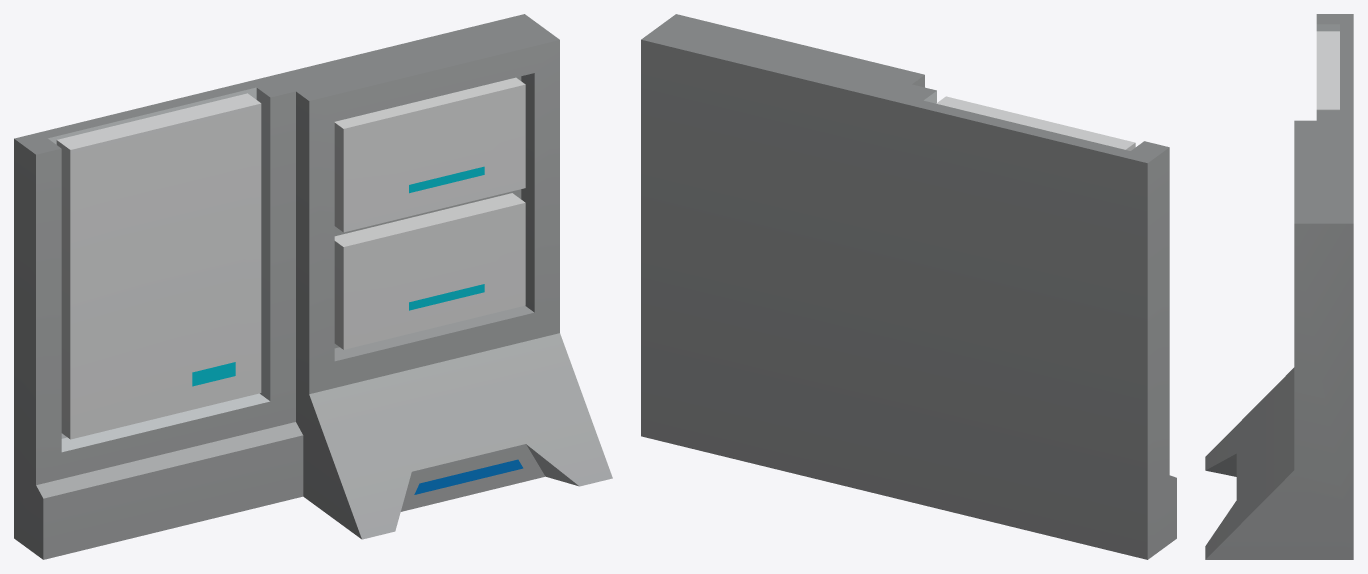
File: Wall_type_A_039.fbx
3 renders of one model, left to right at view 1: azimuth 30°, elevation 25°; view 2: azimuth 150°, elevation 25°; view 3: azimuth 270°, elevation 25°, orthographic. The views are drawn at different scales.
Parts seen in each view (by area): view 1: Wall_type_A_039; view 2: Wall_type_A_039; view 3: Wall_type_A_039.
Part boxes in pixels (x1=…): Wall_type_A_039: x1=14, y1=14, x2=612, y2=559; Wall_type_A_039: x1=641, y1=14, x2=1176, y2=559; Wall_type_A_039: x1=1205, y1=14, x2=1353, y2=559.
Size of the model in its own units: 201 by 60 by 150.
